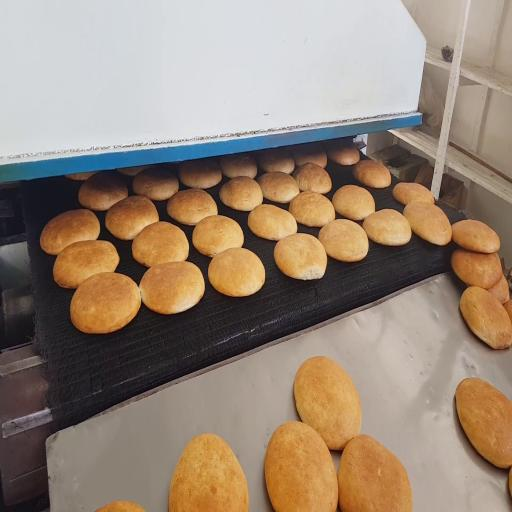bread: (265, 422, 338, 511), (294, 357, 361, 449), (169, 434, 248, 511), (338, 435, 413, 511), (456, 378, 511, 468), (71, 273, 140, 333), (139, 262, 204, 314), (460, 286, 511, 349), (53, 240, 119, 288), (208, 248, 265, 296), (40, 210, 100, 255), (132, 222, 189, 267), (274, 234, 327, 280), (105, 196, 158, 240), (403, 201, 451, 246), (192, 215, 243, 257), (319, 220, 368, 262), (451, 249, 502, 289), (79, 172, 127, 210), (167, 189, 217, 225), (363, 209, 411, 246), (248, 205, 297, 240), (289, 191, 335, 227), (452, 220, 500, 253), (133, 167, 178, 201), (332, 185, 375, 220), (219, 176, 262, 211), (258, 173, 299, 203), (179, 159, 221, 188), (294, 163, 331, 193), (353, 160, 391, 188), (393, 183, 434, 205), (220, 154, 257, 178), (258, 149, 294, 173), (292, 144, 327, 168), (327, 141, 360, 166), (489, 275, 509, 304), (96, 502, 145, 511), (117, 165, 150, 176), (66, 172, 97, 181), (503, 301, 511, 321), (509, 469, 511, 496)
